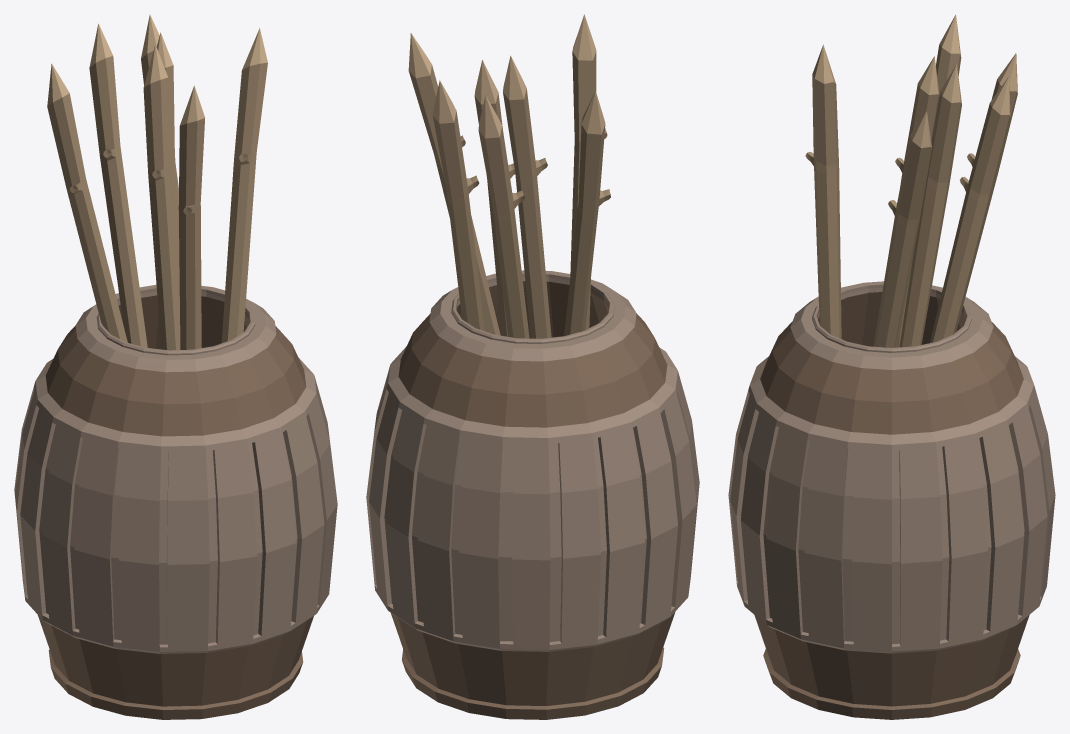
Rendered from barrEstacas.fbx.
The picture shows the model from 3 angles, left to right: view 1: azimuth 30°, elevation 25°; view 2: azimuth 150°, elevation 25°; view 3: azimuth 270°, elevation 25°; orthographic projection. The views are drawn at different scales.
Parts seen in each view (by area): view 1: Barril, Estaca2, Estaca4, Estaca7, Estaca6, Estaca3, Estaca5, Estaca; view 2: Barril, Estaca7, Estaca, Estaca2, Estaca6, Estaca4, Estaca3, Estaca5; view 3: Barril, Estaca3, Estaca5, Estaca, Estaca4, Estaca7, Estaca6, Estaca2.
Part boxes in pixels (x1,y1,x2,y2): Barril: (14, 284, 337, 719); Estaca2: (89, 23, 147, 347); Estaca4: (221, 28, 267, 342); Estaca7: (143, 44, 180, 350); Estaca6: (47, 63, 127, 342); Estaca3: (178, 85, 204, 349); Estaca5: (156, 32, 179, 310); Estaca: (141, 14, 178, 205); Barril: (366, 270, 699, 719); Estaca7: (503, 55, 551, 338); Estaca: (432, 80, 484, 330); Estaca2: (478, 95, 529, 338); Estaca6: (564, 91, 610, 336); Estaca4: (408, 33, 500, 335); Estaca3: (570, 14, 607, 329); Estaca5: (474, 60, 515, 336); Barril: (728, 281, 1055, 719); Estaca3: (805, 44, 841, 338); Estaca5: (899, 64, 961, 347); Estaca: (929, 76, 1010, 342); Estaca4: (873, 111, 931, 347); Estaca7: (895, 56, 939, 347); Estaca6: (897, 14, 961, 347); Estaca2: (955, 53, 1017, 332).
Size of the model in its own units: 2.05 by 4.25 by 2.05.
